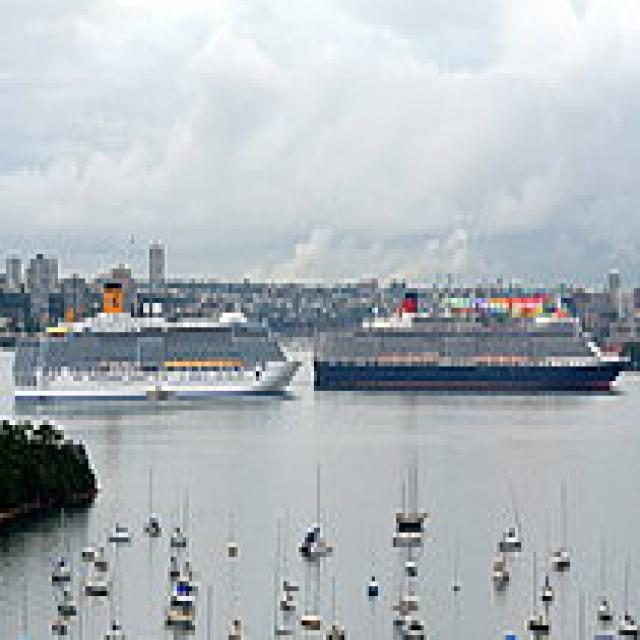Ship: (7, 260, 309, 407), (309, 270, 632, 407)
